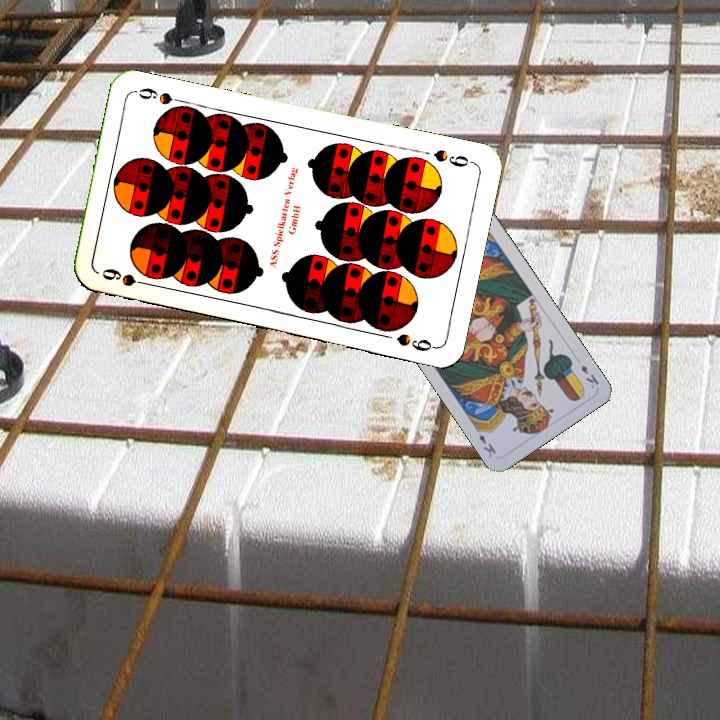EK: (577, 361, 601, 391)
S9: (98, 264, 154, 289), (430, 145, 477, 170)
